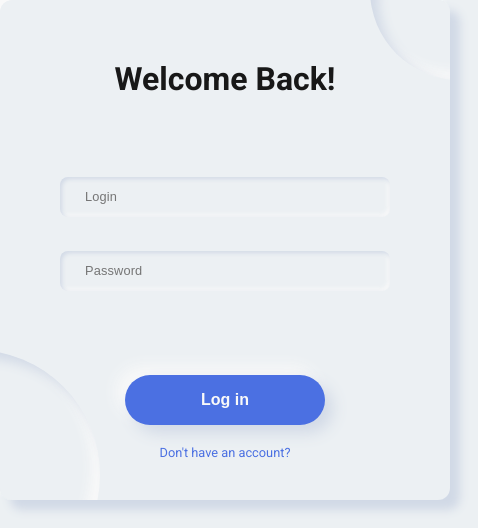
Scenario: Login Page › Displays errors
The width and height of the screenshot is (478, 528).
Step 1. Click the button with test id "submit" → (225, 400), box [125,375,325,425]
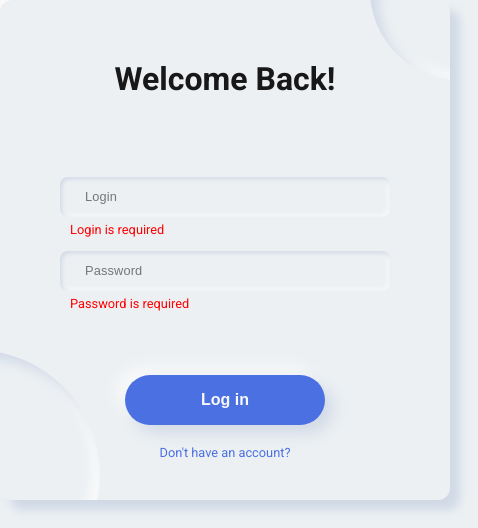
Result: the text "Login is required" is shown at [70,222,164,236]
Result: the text "Password is required" is shown at [70,296,189,310]
